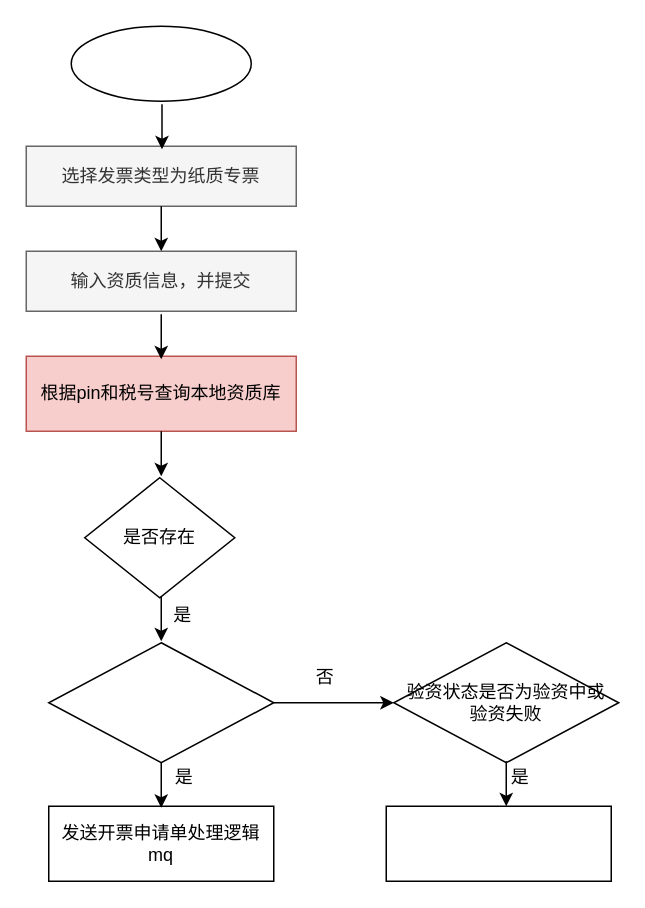
This 645x908 diagram has some shape labels left out. The box of each missing label's shape, as (x1, y1, x2, y2) in pixels:
man端提示验资中或验资失败，不允许提交: (385, 805, 611, 881)
开始: (70, 25, 251, 101)
验资状态是否为验资通过: (47, 641, 274, 763)
